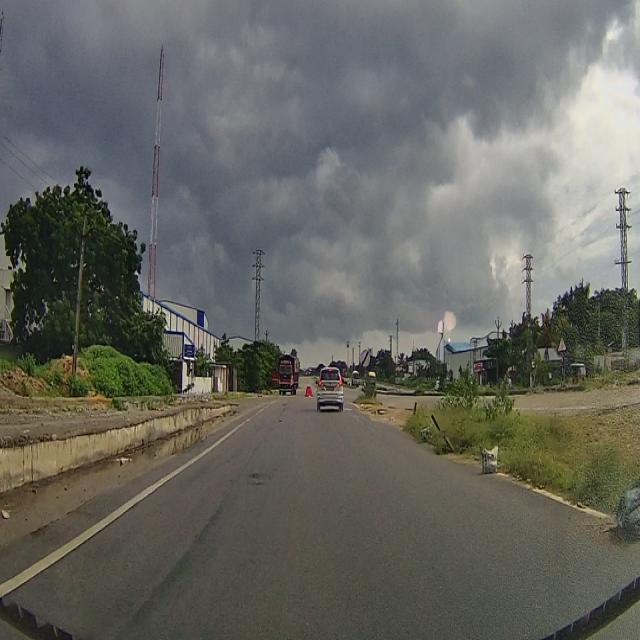car ahead at: (313, 360, 346, 413)
